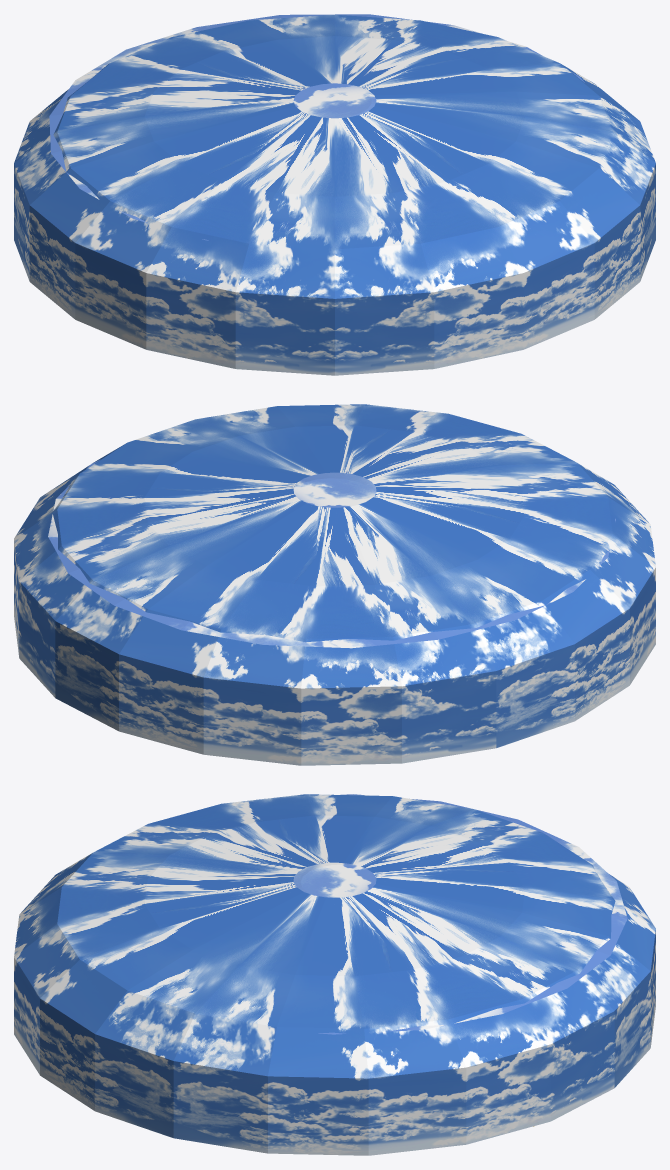
Rendered from Stage001.fbx.
The picture shows the model from 3 angles, top to bottom: view 1: azimuth 30°, elevation 25°; view 2: azimuth 150°, elevation 25°; view 3: azimuth 270°, elevation 25°; orthographic projection.
Parts seen in each view (by area): view 1: BG, BG_AB; view 2: BG, BG_AB; view 3: BG, BG_AB.
Boxes of the visible parts, x1=… form: BG: x1=14, y1=14, x2=655, y2=375; BG_AB: x1=49, y1=14, x2=584, y2=240; BG: x1=14, y1=404, x2=655, y2=765; BG_AB: x1=48, y1=459, x2=615, y2=648; BG: x1=14, y1=794, x2=655, y2=1155; BG_AB: x1=264, y1=794, x2=627, y2=1034.
Size of the model in its own units: 10158 by 2495 by 10158.
